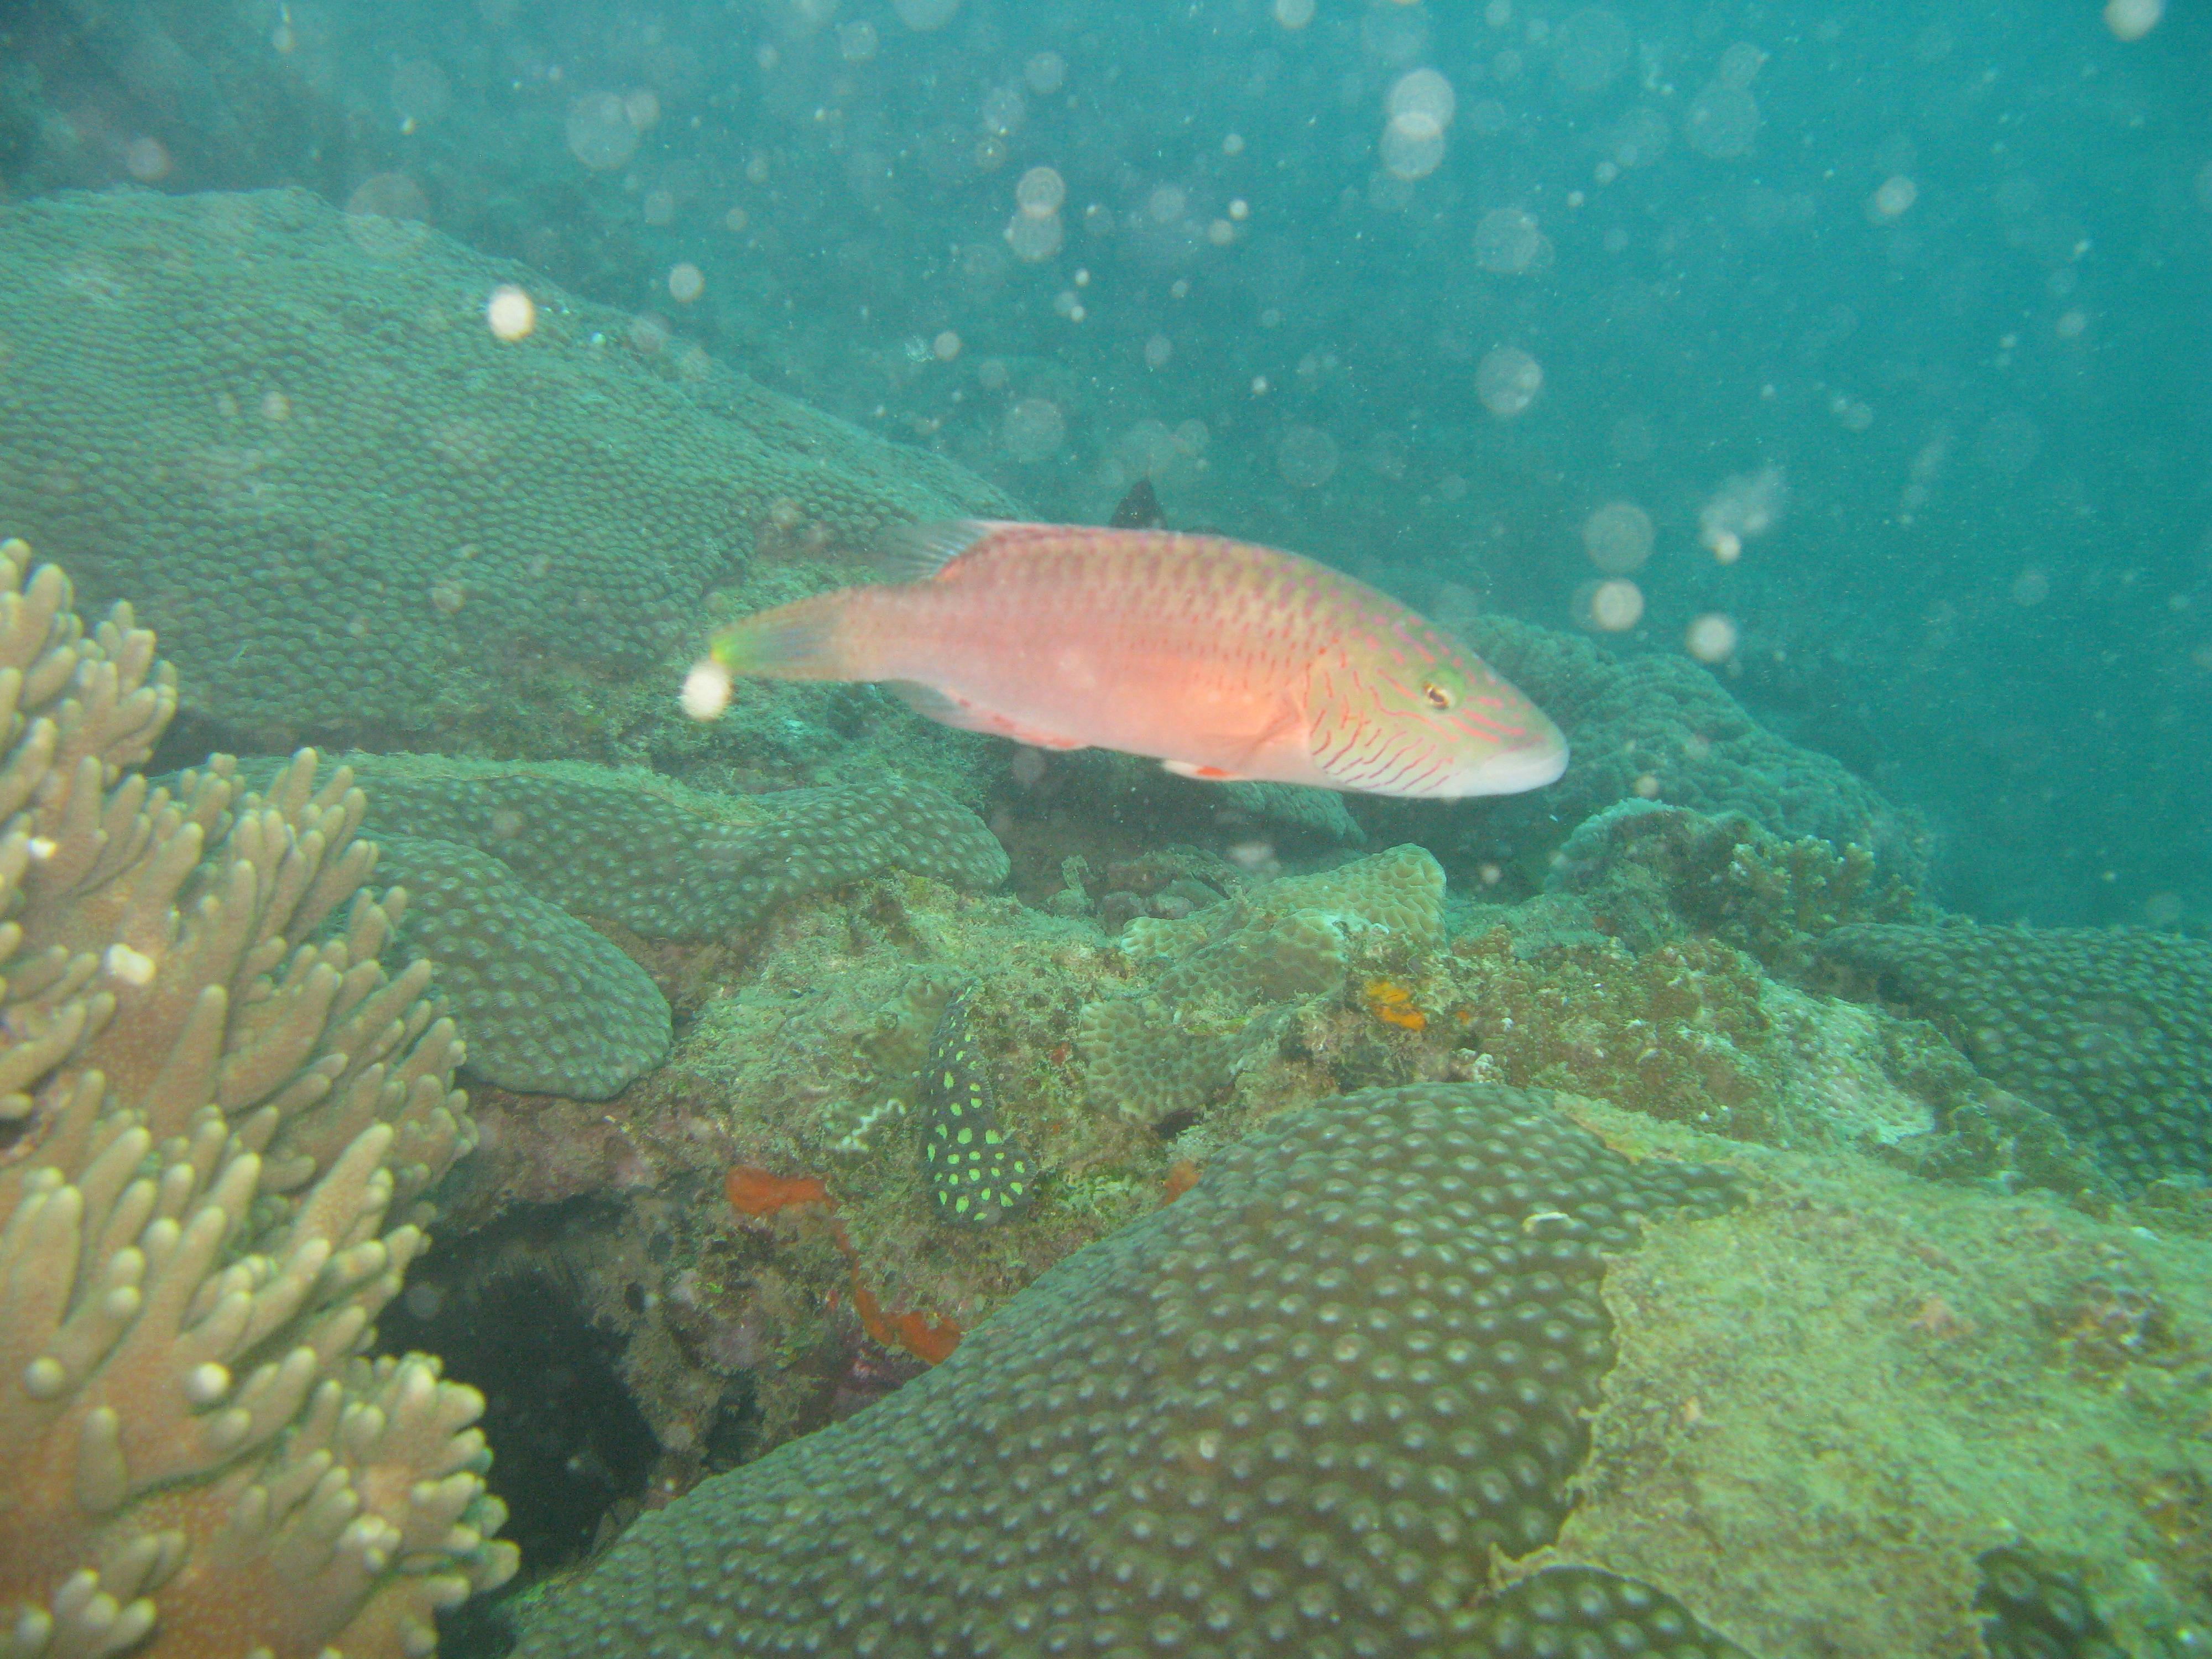Fish: (646, 512, 1585, 816)
